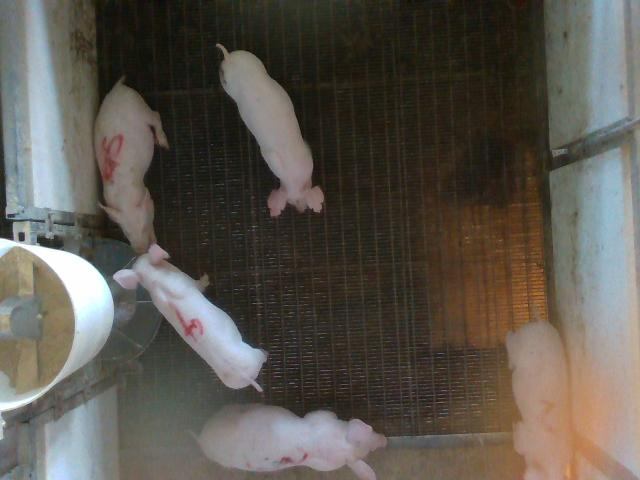pig-2: (506, 319, 572, 479)
pig-3: (196, 405, 386, 479)
pig-4: (114, 244, 266, 391)
pig-5: (95, 76, 169, 253)
